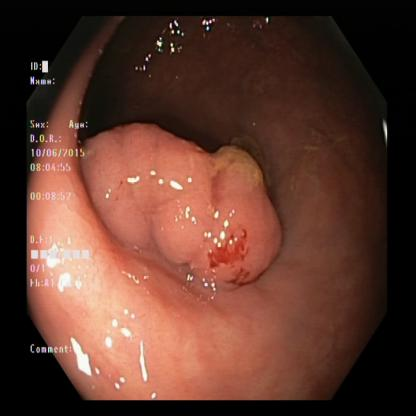Labels: (25, 56, 89, 364)
Polyps: (91, 130, 278, 286)
